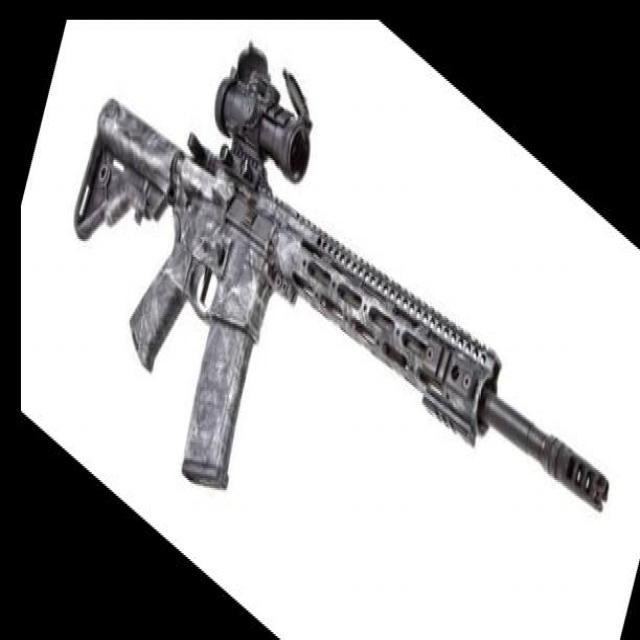weapon: (72, 42, 610, 514)
